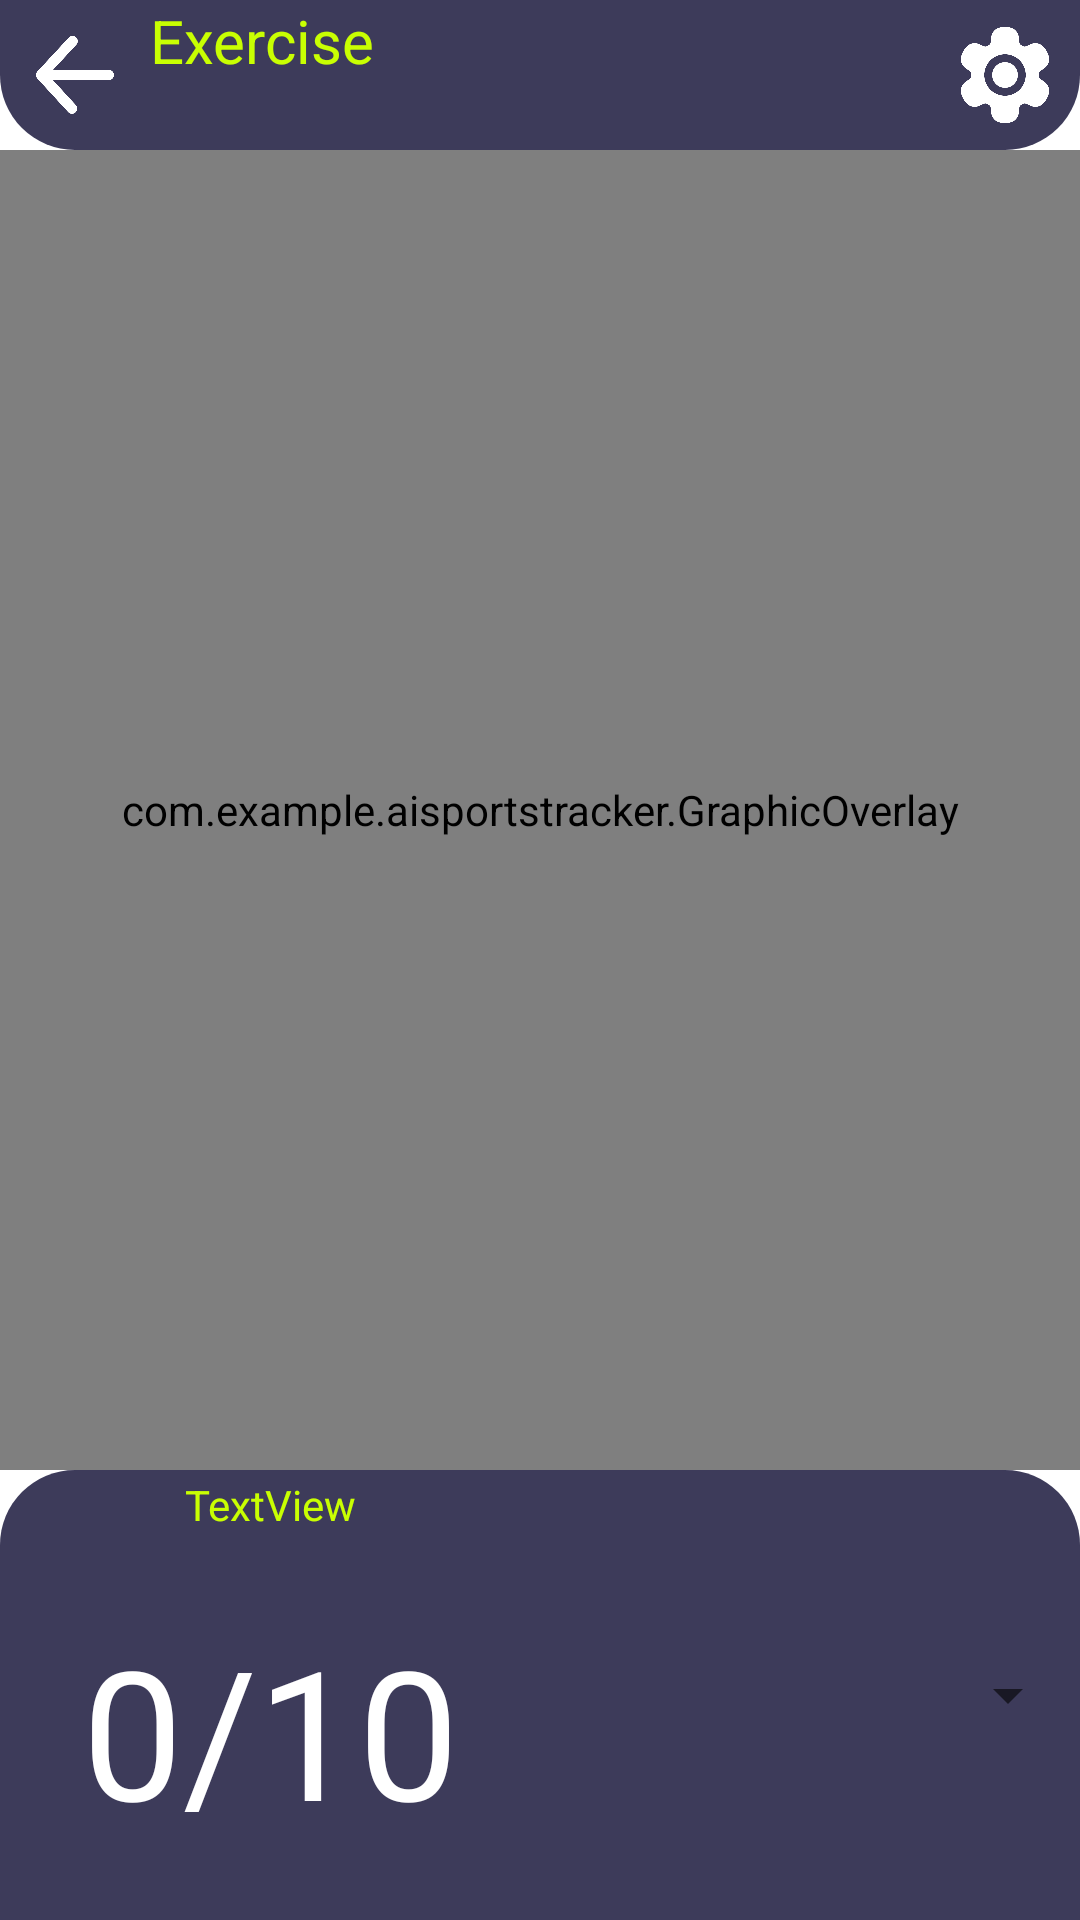

Named icons in this screenshot (1080px×1920px) and their centers, point (x, y):
Back: point (75, 75)
Settings: point (1005, 75)
